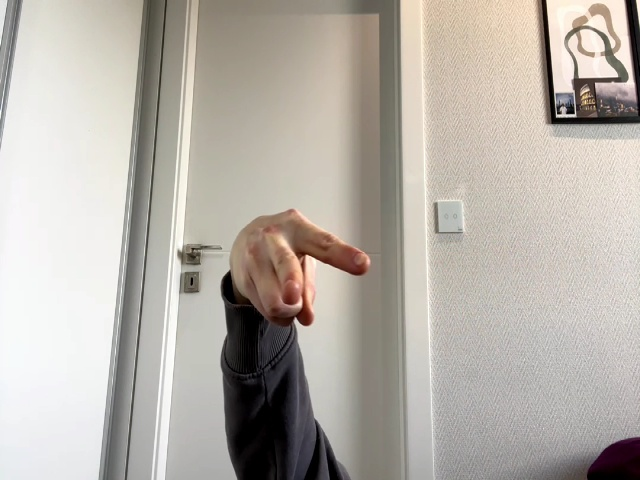U: (229, 208, 370, 327)
